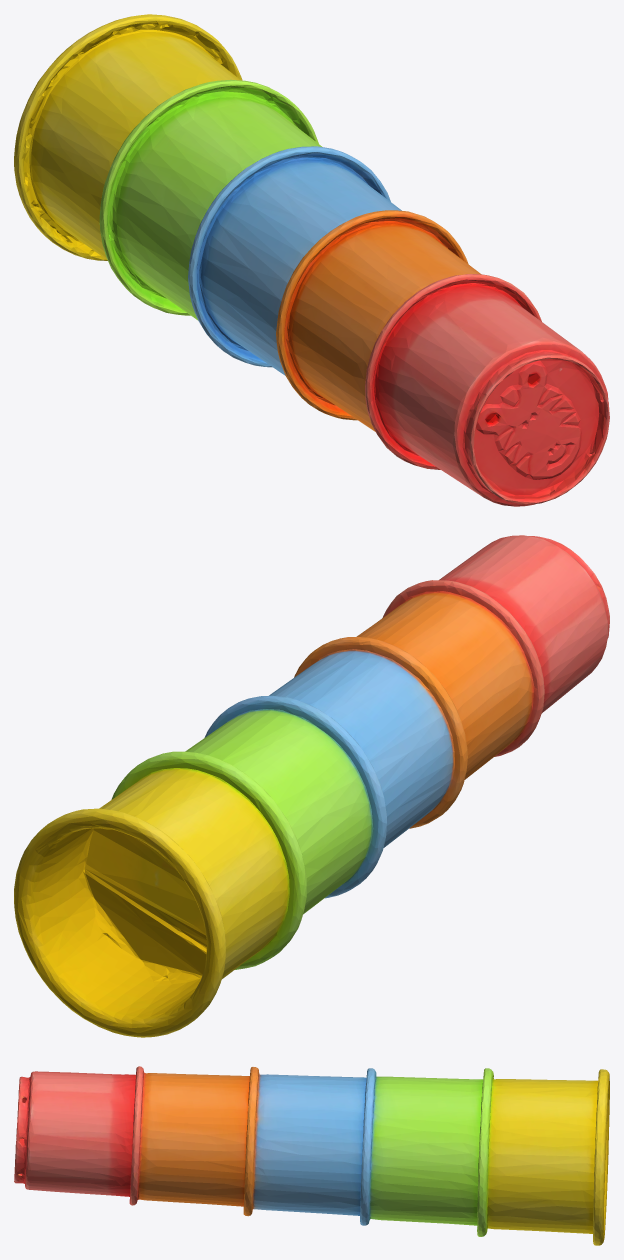
File: stucking_cups.glb
3 renders of one model, top to bottom at view 1: azimuth 30°, elevation 25°; view 2: azimuth 150°, elevation 25°; view 3: azimuth 270°, elevation 25°, orthographic. The views are drawn at different scales.
Visible parts, largest first — view 1: geometry_0; view 2: geometry_0; view 3: geometry_0.
Part boxes in pixels (bbox=[...]): geometry_0: bbox=[14, 14, 609, 506]; geometry_0: bbox=[14, 535, 609, 1037]; geometry_0: bbox=[14, 1066, 609, 1245].
Size of the model in its own units: 0.2969 by 0.2961 by 1.
1 material, 1 textured.
